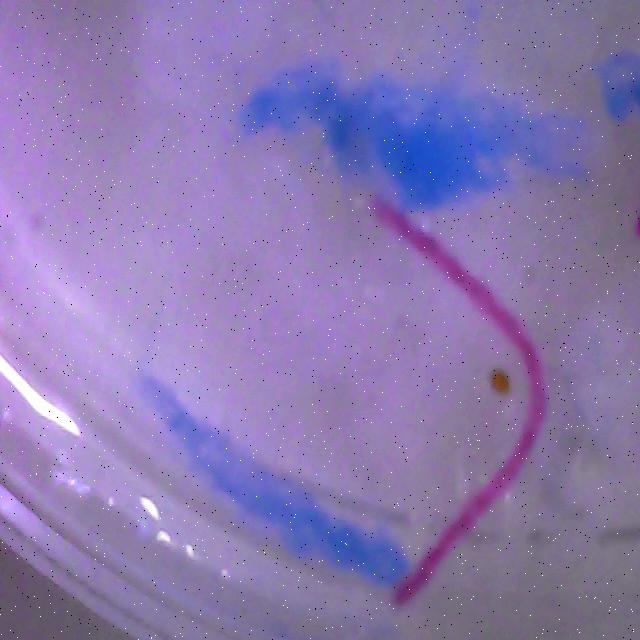Fibre: (356, 181, 546, 613)
